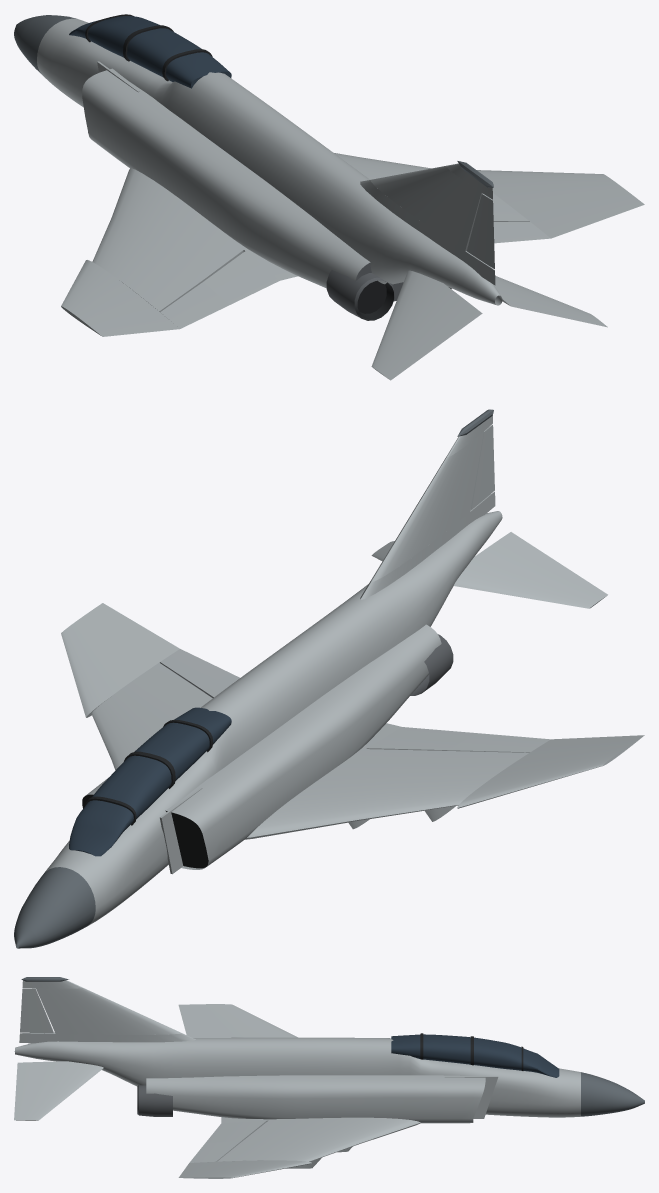
3 renders of one model, top to bottom at view 1: azimuth 30°, elevation 25°; view 2: azimuth 150°, elevation 25°; view 3: azimuth 270°, elevation 25°, orthographic. The views are drawn at different scales.
Visible parts, largest first — view 1: Fuselage, Intakes, Wing L, Wing R, Vertical Fin, Elevator L, Cockpit Glass, Exhaust, Flap L, Elevator R, Aileron L, Rudder (+2 smaller); view 2: Fuselage, Intakes, Wing L, Wing R, Cockpit Glass, Vertical Fin, Elevator L, Flap L, Aileron R, Aileron L, Rudder, Exhaust (+1 smaller); view 3: Fuselage, Intakes, Wing R, Vertical Fin, Cockpit Glass, Elevator R, Wing L, Rudder, Exhaust, Flap R, Aileron R.
Boxes of the visible parts, left/top/right/bottom form: Fuselage: left=14, top=15, right=502, bottom=305; Intakes: left=82, top=61, right=403, bottom=301; Wing L: left=61, top=168, right=297, bottom=336; Wing R: left=334, top=153, right=644, bottom=238; Vertical Fin: left=360, top=161, right=495, bottom=285; Elevator L: left=371, top=270, right=482, bottom=380; Cockpit Glass: left=69, top=16, right=231, bottom=88; Exhaust: left=326, top=270, right=451, bottom=320; Flap L: left=203, top=251, right=279, bottom=304; Elevator R: left=494, top=276, right=607, bottom=327; Aileron L: left=160, top=282, right=229, bottom=328; Rudder: left=467, top=193, right=494, bottom=269; Fuselage: left=14, top=511, right=502, bottom=948; Intakes: left=82, top=624, right=441, bottom=874; Wing L: left=245, top=723, right=644, bottom=839; Wing R: left=61, top=603, right=212, bottom=770; Cockpit Glass: left=69, top=707, right=231, bottom=856; Vertical Fin: left=360, top=409, right=495, bottom=599; Elevator L: left=453, top=532, right=607, bottom=608; Flap L: left=367, top=727, right=475, bottom=750; Aileron R: left=160, top=649, right=229, bottom=691; Aileron L: left=449, top=733, right=550, bottom=752; Rudder: left=470, top=425, right=494, bottom=509; Exhaust: left=410, top=634, right=453, bottom=695; Fuselage: left=15, top=1037, right=644, bottom=1117; Intakes: left=146, top=1075, right=498, bottom=1123; Wing R: left=178, top=1117, right=420, bottom=1178; Vertical Fin: left=19, top=977, right=195, bottom=1043; Cockpit Glass: left=391, top=1034, right=559, bottom=1077; Elevator R: left=14, top=1061, right=103, bottom=1120; Wing L: left=178, top=1004, right=297, bottom=1037; Rudder: left=20, top=988, right=53, bottom=1033; Exhaust: left=137, top=1085, right=172, bottom=1116; Flap R: left=205, top=1120, right=266, bottom=1142; Aileron R: left=189, top=1141, right=240, bottom=1162.
Bounding box in the file's own units: 11.47 × 4.31 × 17.65.
